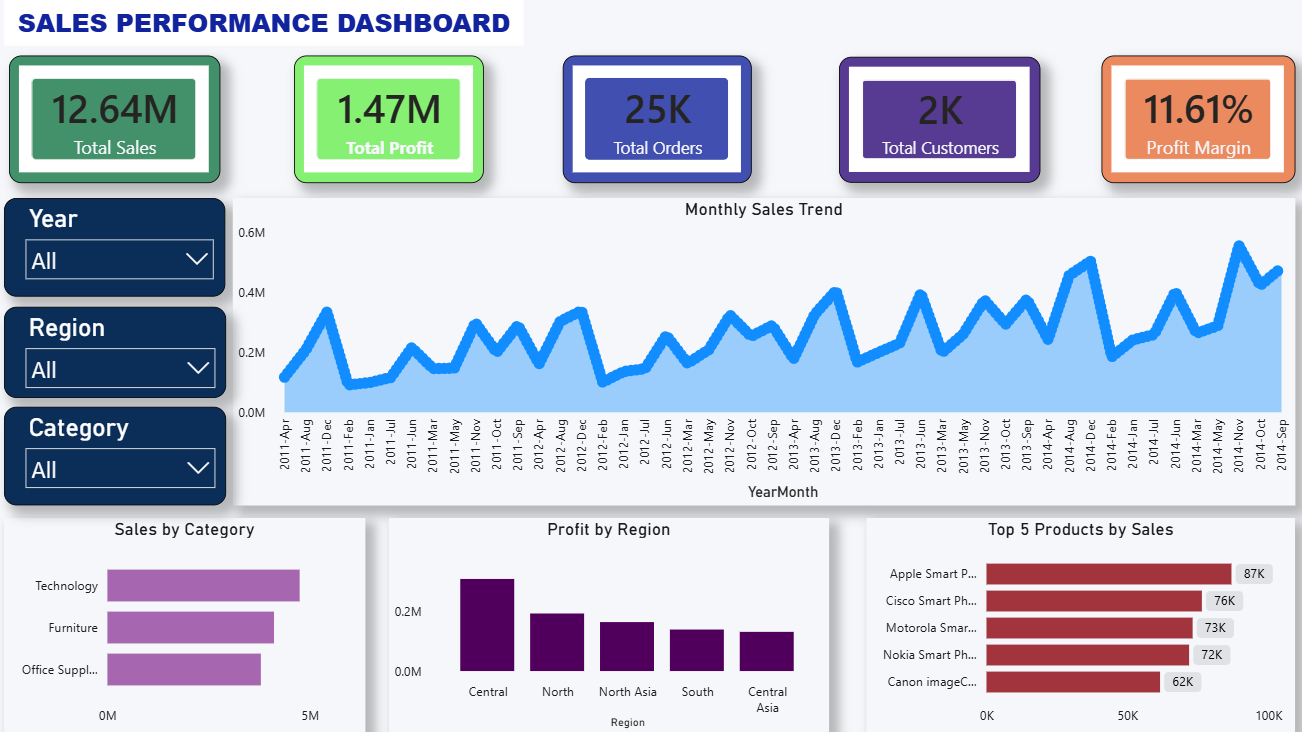

What the dashboard file says about the page in this screenshot:
{"tool":"powerbi","page":{"name":"Page 1","canvas":[1280,720],"ordinal":0},"visuals":[{"type":"cardVisual","fields":{"Data":["Global_Superstore2.Total Sales"]},"box":[14.5,65.1,203.9,123.1],"z":0},{"type":"cardVisual","fields":{"Data":["Global_Superstore2.Total Profit"]},"box":[289.5,65.1,183.4,123.1],"z":1000},{"type":"cardVisual","fields":{"Data":["Global_Superstore2.Total Orders"]},"box":[548.9,65.1,182.2,123.1],"z":2000},{"type":"cardVisual","fields":{"Data":["Global_Superstore2.Total Customers"]},"box":[815.6,66.4,194.2,121.9],"z":3000},{"type":"cardVisual","fields":{"Data":["Global_Superstore2.Profit Margin"]},"box":[1068.9,65.1,187,123.1],"z":4000},{"type":"slicer","fields":{"Values":["Date Table.Year"]},"box":[9.7,202.7,213.5,95.3],"z":5000},{"type":"lineChart","title":"Monthly Sales Trend","fields":{"Y":["Sum(Global_Superstore2.Sales)"],"Category":["Date Table.YearMonth"]},"box":[230.4,202.7,1025.5,296.8],"z":6000},{"type":"clusteredBarChart","title":"Sales by Category","fields":{"Y":["Sum(Global_Superstore2.Sales)"],"Category":["Global_Superstore2.Category"]},"box":[9.7,511.5,348.7,208.7],"z":7000},{"type":"clusteredColumnChart","title":"Profit by Region","fields":{"Category":["Global_Superstore2.Region"],"Y":["Global_Superstore2.Total Profit"]},"box":[381.2,511.5,424.7,208.7],"z":8000},{"type":"clusteredBarChart","title":"Top 5 Products by Sales","fields":{"Y":["Global_Superstore2.Total Sales"],"Category":["Global_Superstore2.Product Name"]},"box":[842.1,511.5,413.8,208.7],"z":9000},{"type":"slicer","fields":{"Values":["Global_Superstore2.Region"]},"box":[9.7,307.6,214.7,88.1],"z":10000},{"type":"slicer","fields":{"Values":["Global_Superstore2.Category"]},"box":[9.7,404.2,214.7,95.3],"z":11000},{"type":"textbox","box":[9.7,10.9,501.9,44.6],"z":12000}]}

Visuals, with their boxes in screenshot pixels (x1, y1, x2, y2), scaled from the page's 1280x720 canvas onto the 1302x732 screenshot:
cardVisual - Global_Superstore2.Total Sales: 15:66:222:191
cardVisual - Global_Superstore2.Total Profit: 294:66:481:191
cardVisual - Global_Superstore2.Total Orders: 558:66:744:191
cardVisual - Global_Superstore2.Total Customers: 830:68:1027:191
cardVisual - Global_Superstore2.Profit Margin: 1087:66:1277:191
slicer - Date Table.Year: 10:206:227:303
"Monthly Sales Trend" lineChart: 234:206:1277:508
"Sales by Category" clusteredBarChart: 10:520:365:731
"Profit by Region" clusteredColumnChart: 388:520:820:731
"Top 5 Products by Sales" clusteredBarChart: 857:520:1277:731
slicer - Global_Superstore2.Region: 10:313:228:402
slicer - Global_Superstore2.Category: 10:411:228:508
textbox: 10:11:520:56
